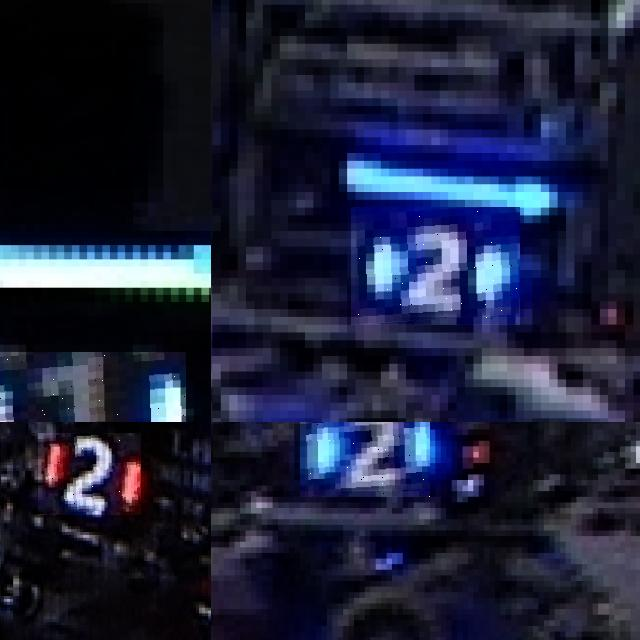B1: (0, 352, 186, 422)
B2: (351, 207, 520, 325), (300, 422, 430, 496)
R2: (38, 433, 141, 515)
